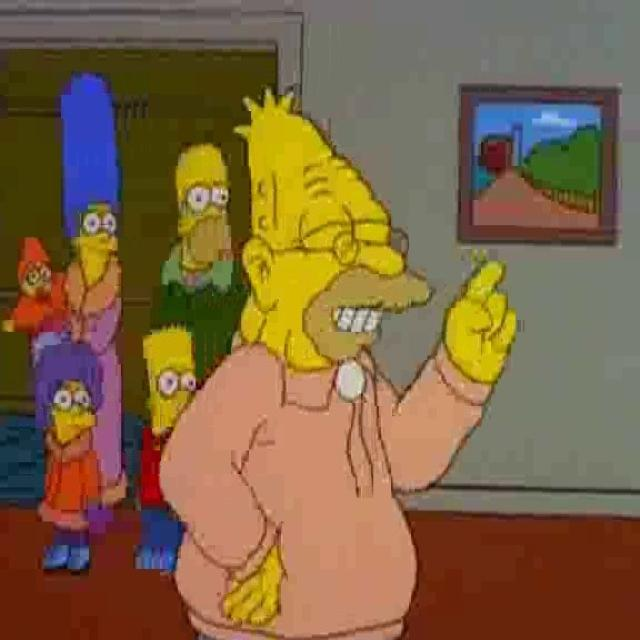Bart Simpson: (142, 326, 200, 438)
Homer Simpson: (174, 141, 233, 274)
Lisa Simpson: (37, 365, 103, 447)
Maggie Simpson: (17, 238, 54, 300)
Marge Simpson: (62, 70, 121, 294)
